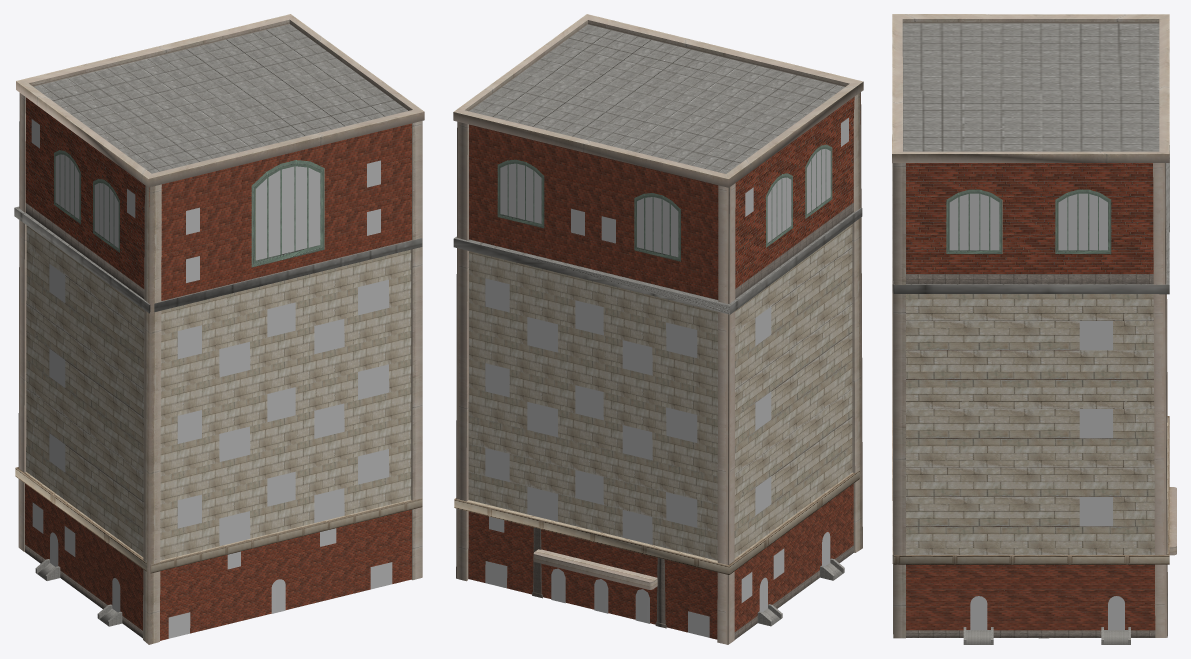
Rendered from House_RedSquare_LOD1.fbx.
3 renders of one model, left to right at view 1: azimuth 30°, elevation 25°; view 2: azimuth 150°, elevation 25°; view 3: azimuth 270°, elevation 25°, orthographic. The views are drawn at different scales.
Parts seen in each view (by area): view 1: House_RedSquare_LOD1; view 2: House_RedSquare_LOD1; view 3: House_RedSquare_LOD1.
Part boxes in pixels (left/top/right/bottom): House_RedSquare_LOD1: left=14, top=14, right=424, bottom=644; House_RedSquare_LOD1: left=453, top=14, right=863, bottom=644; House_RedSquare_LOD1: left=892, top=14, right=1176, bottom=644.
Size of the model in its own units: 3930 by 5883 by 3128.
